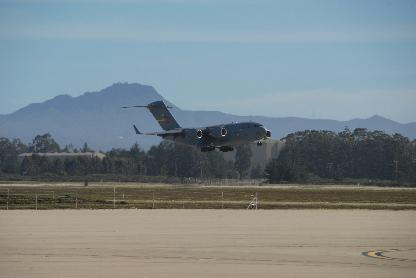C2: (121, 99, 271, 151)
